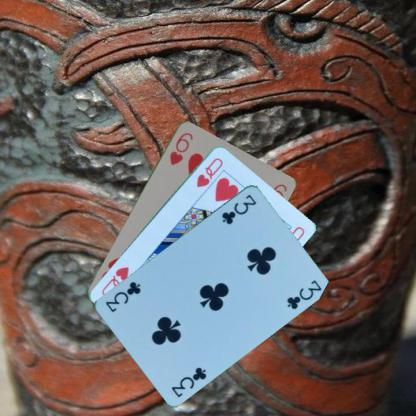3c: (168, 364, 209, 398), (220, 192, 258, 226)
6h: (167, 130, 194, 166)
Qh: (194, 154, 224, 188)
